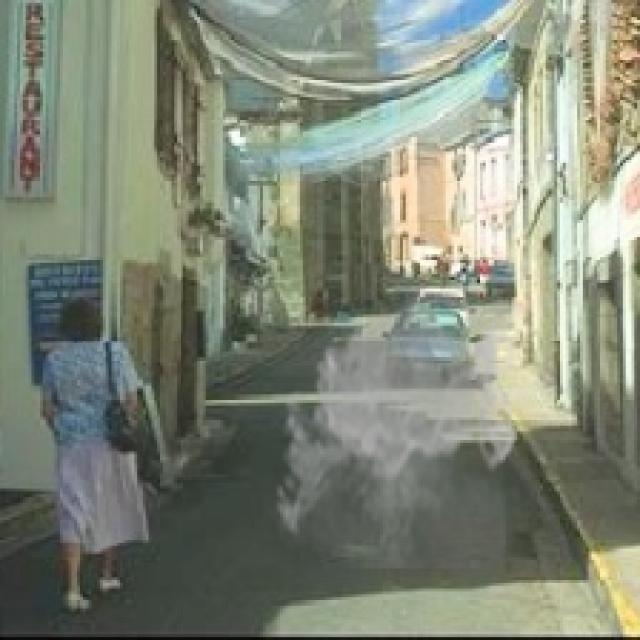smoke: (268, 288, 523, 568)
